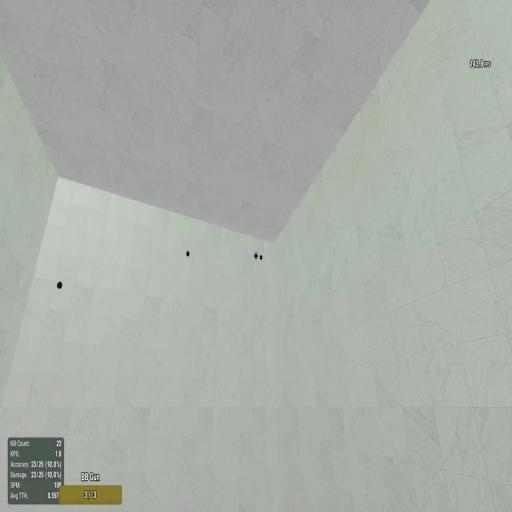Crosshair: (254, 252, 258, 260)
Target: (56, 281, 62, 289), (186, 250, 190, 258), (260, 254, 264, 260)
